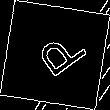P_SW: (24, 25, 86, 85)
